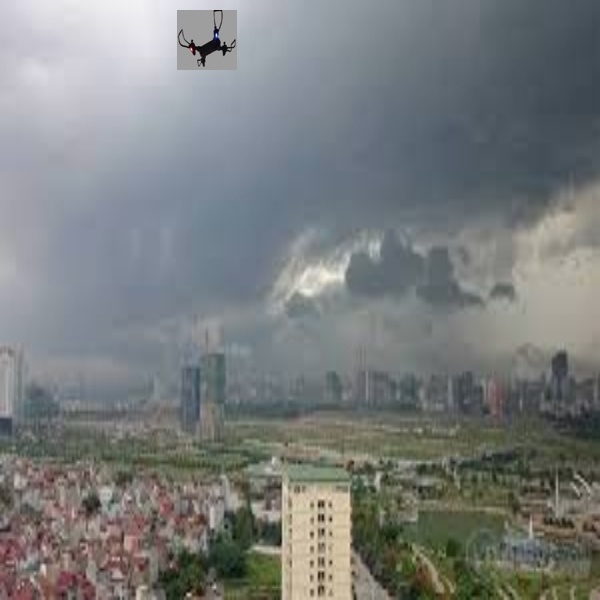drone: (174, 7, 238, 69)
